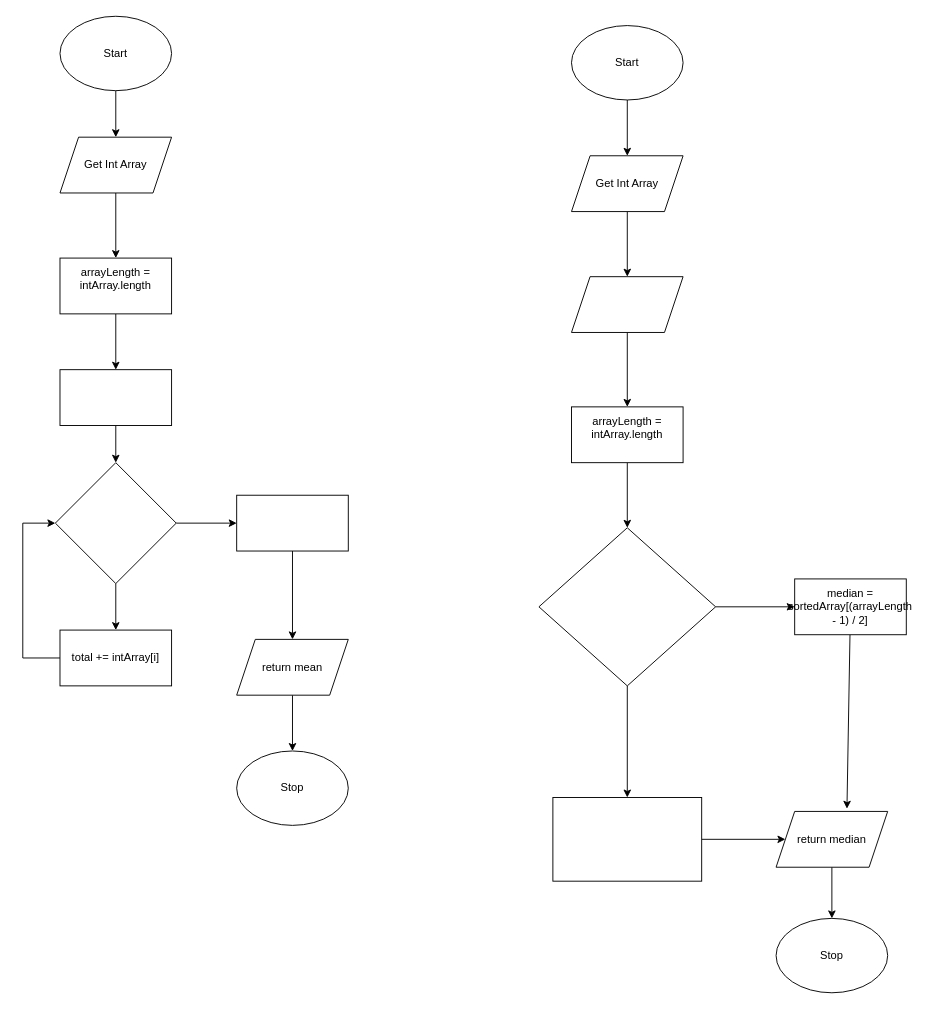
The diagram is 928 pixels wide and 1009 high, and some of its shapes have lost their labels. Here are the shapes that lost their labels. From the top down, the centre of each, then its label:
At (x=627, y=304): "sortedArray".
At (x=115, y=397): "total = 0".
At (x=115, y=523): "for (let i = 0; i < arrayLength; i++)".
At (x=292, y=522): "total / arrayLength".
At (x=627, y=606): "if (arrayLength % 2 === 0)".
At (x=627, y=839): "median = (sortedArray[arrayLength / 2] + sortedArray[arrayLength / 2 - 1]) / 2".
